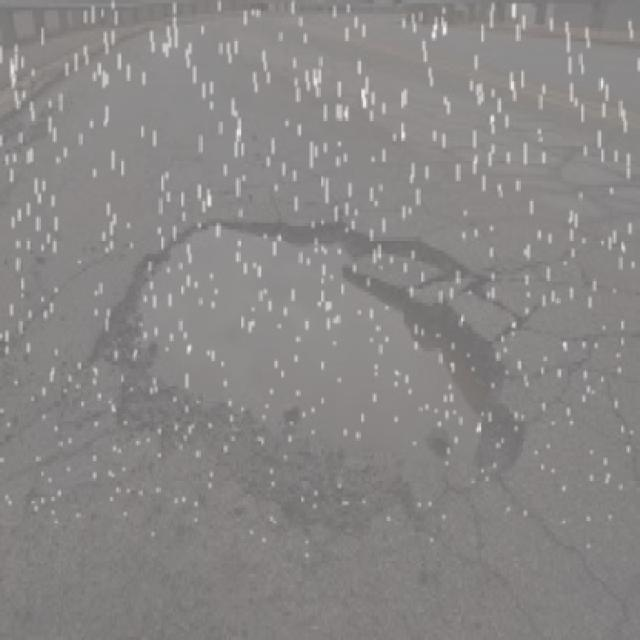Pothole: (101, 204, 566, 579)
